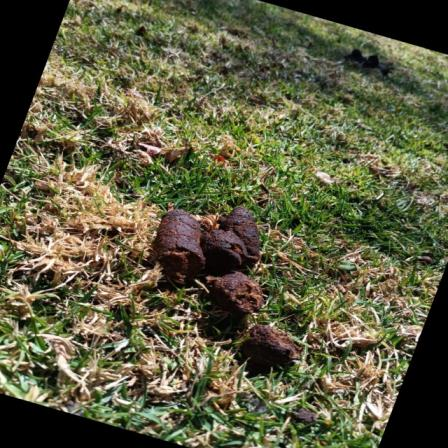dog-poop: (154, 199, 312, 367)
